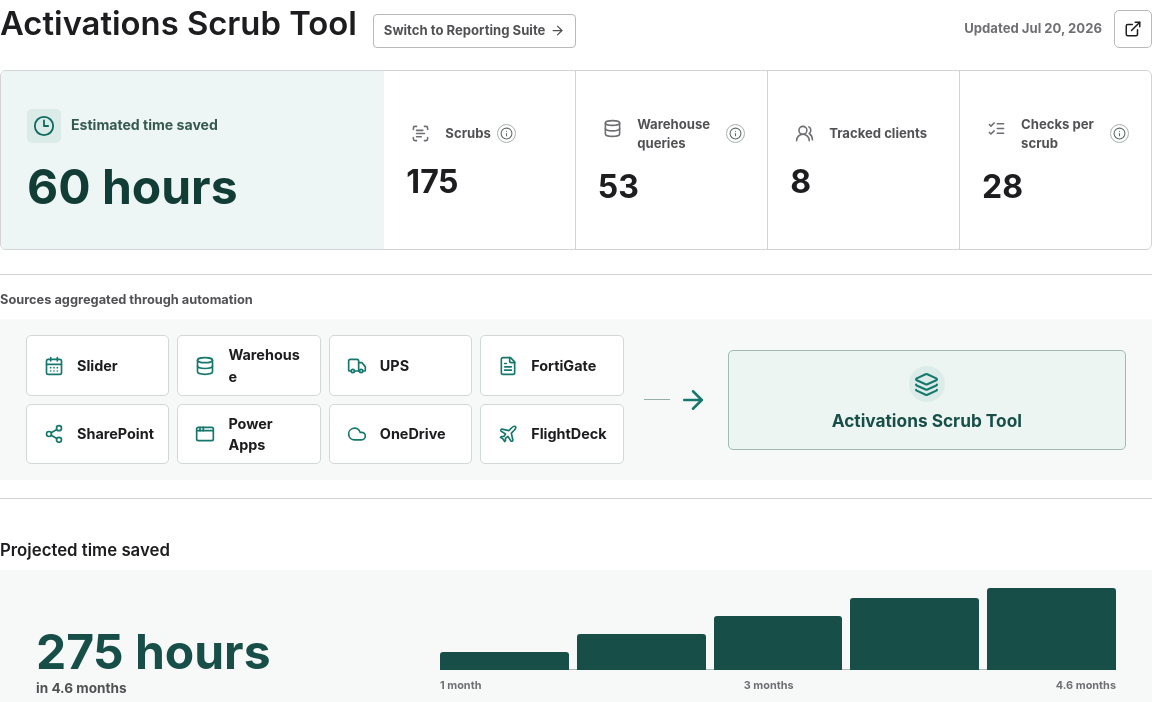
Test: MetricsPage › shows a Reporting Suite empty state when no code snapshot is available
The width and height of the screenshot is (1152, 702).
What coordinates should you click on to do the following:
click the button "Switch to Reporting Suite"
I would click on:
 (475, 31)
Its box is top-left (373, 14), bottom-right (576, 48).
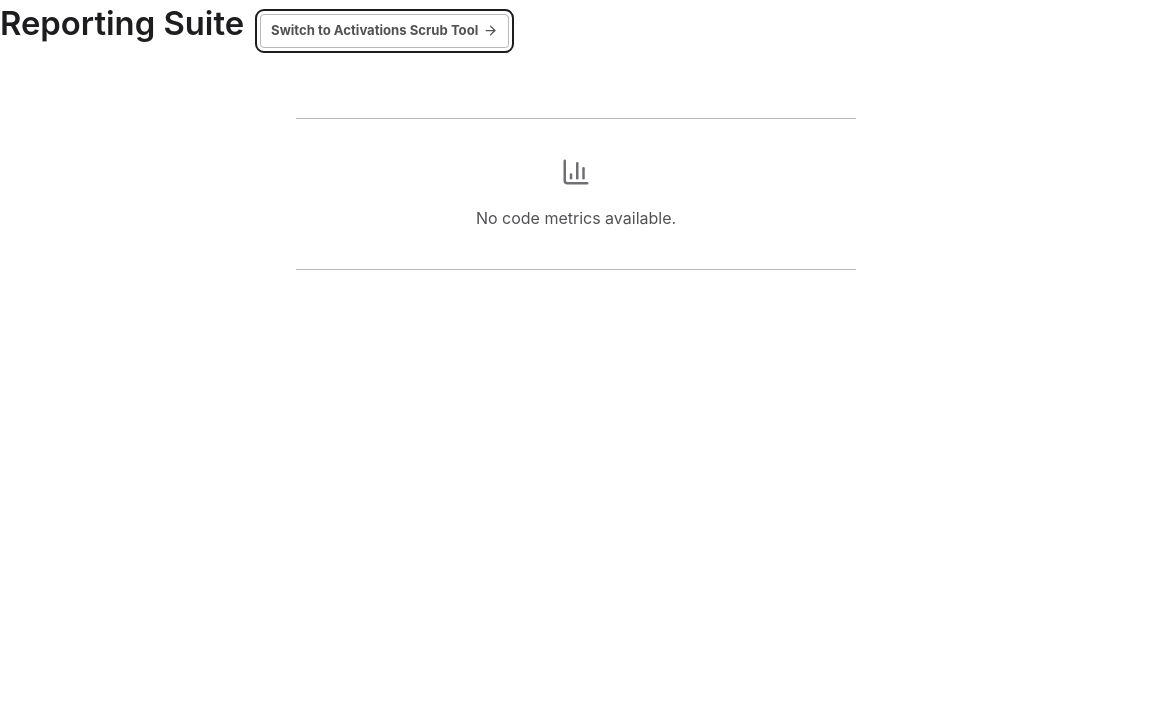
Expected: the heading "Reporting Suite" is shown, top-left (0, 5), bottom-right (244, 42)
Expected: the text "No code metrics available." is shown, top-left (476, 208), bottom-right (676, 228)
